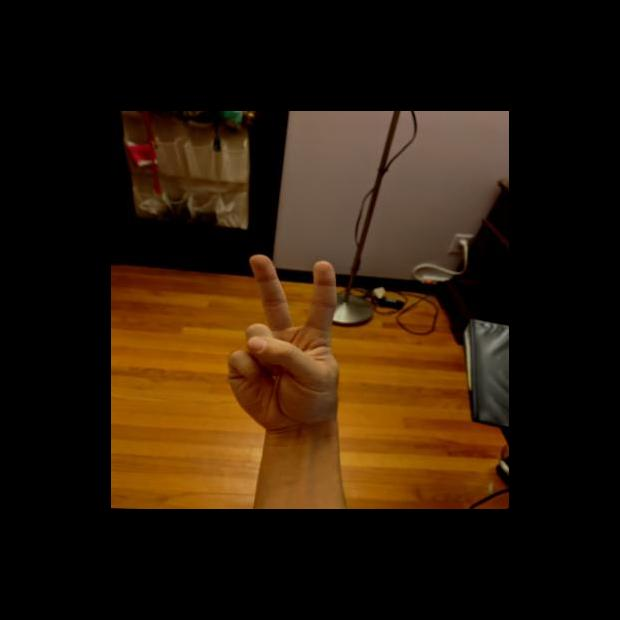U: (223, 249, 348, 436)
